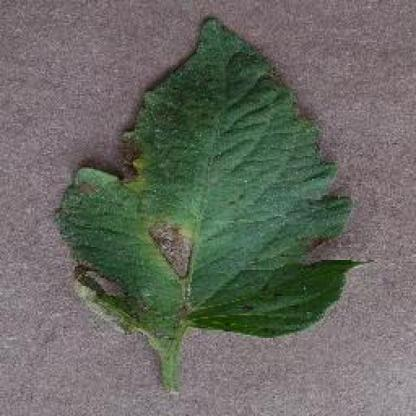Tomato_Blight: (60, 19, 370, 338)
